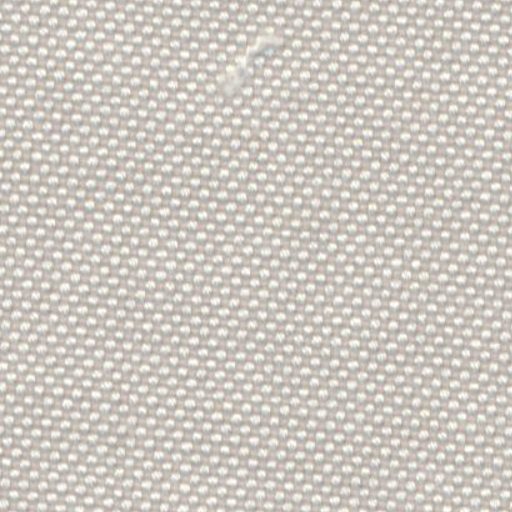DuanSha: (216, 22, 289, 103)
